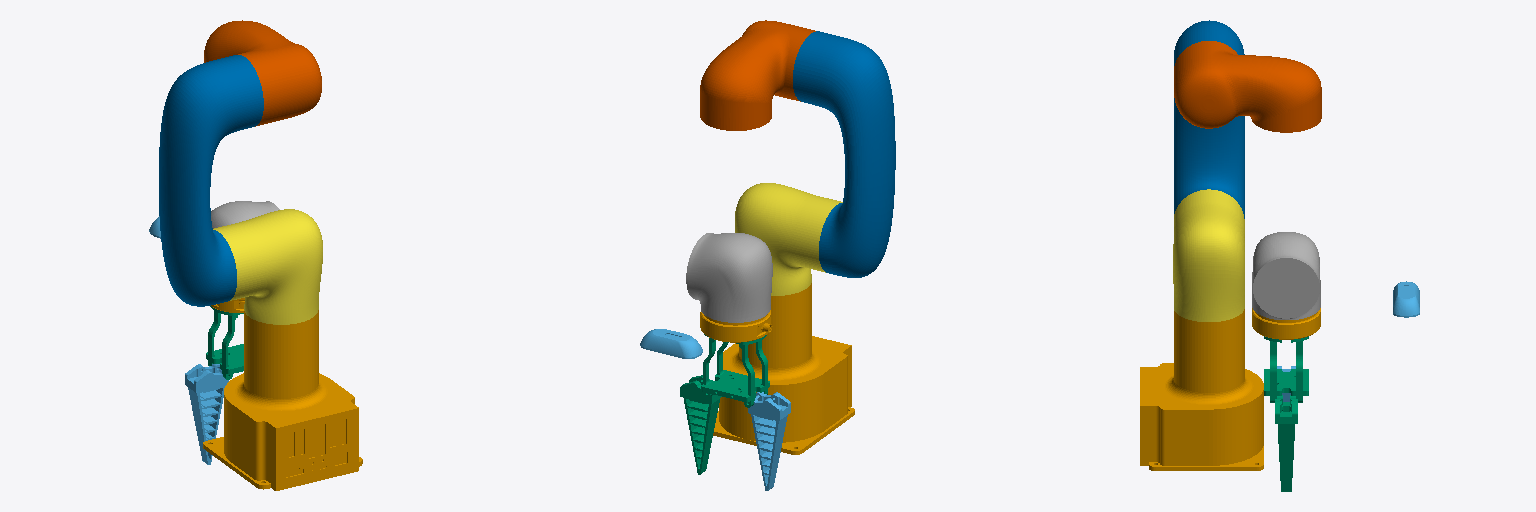
The robot description file, URDF, robot "lite_6_robotarm":
<?xml version="1.0" ?>
<robot name="lite_6_robotarm">

<material name="silver">
  <color rgba="0.700 0.700 0.700 1.000"/>
</material>

<link name="base_link">
  <inertial>
    <origin xyz="-1.4819862268024002e-06 -0.00020774933500536933 0.06315172999266203" rpy="0 0 0"/>
    <mass value="12.96819491810422"/>
    <inertia ixx="0.04245115685707855" iyy="0.03958711946350989" izz="0.026256756827603374" ixy="-1.3246006420518412e-06" iyz="-0.002653322519647819" ixz="-6.396562934922565e-07"/>
  </inertial>
  <visual>
    <origin xyz="0 0 0" rpy="0 0 0"/>
    <geometry>
      <mesh filename="meshes/base_link.stl" scale="0.001 0.001 0.001"/>
    </geometry>
    <material name="silver"/>
    <material/>
  </visual>
  <collision>
    <origin xyz="0 0 0" rpy="0 0 0"/>
    <geometry>
      <mesh filename="meshes/base_link.stl" scale="0.001 0.001 0.001"/>
    </geometry>
  </collision>
</link>

<link name="left_finger1">
  <inertial>
    <origin xyz="-0.016649755589227728 0.011001870239480141 -0.02841150300648422" rpy="0 0 0"/>
    <mass value="0.19713513253030895"/>
    <inertia ixx="0.00015875463919208608" iyy="0.00017136843527207574" izz="3.081441906987179e-05" ixy="4.222201108704249e-09" iyz="-8.24694043664951e-09" ixz="-1.4291502258722178e-06"/>
  </inertial>
  <visual>
    <origin xyz="0.0258 -0.083983 -0.07189" rpy="0 0 0"/>
    <geometry>
      <mesh filename="meshes/left_finger1.stl" scale="0.001 0.001 0.001"/>
    </geometry>
    <material name="silver"/>
    <material/>
  </visual>
  <collision>
    <origin xyz="0.0258 -0.083983 -0.07189" rpy="0 0 0"/>
    <geometry>
      <mesh filename="meshes/left_finger1.stl" scale="0.001 0.001 0.001"/>
    </geometry>
  </collision>
</link>

<link name="right_finger1">
  <inertial>
    <origin xyz="0.016649736524671027 0.010999040184855674 -0.02841150300648429" rpy="0 0 0"/>
    <mass value="0.19713513253031012"/>
    <inertia ixx="0.00015875463919208738" iyy="0.00017136843527207682" izz="3.081441906987222e-05" ixy="4.222201108487408e-09" iyz="8.24694043654109e-09" ixz="1.4291502258720551e-06"/>
  </inertial>
  <visual>
    <origin xyz="-0.0262 -0.083983 -0.07189" rpy="0 0 0"/>
    <geometry>
      <mesh filename="meshes/right_finger1.stl" scale="0.001 0.001 0.001"/>
    </geometry>
    <material name="silver"/>
    <material/>
  </visual>
  <collision>
    <origin xyz="-0.0262 -0.083983 -0.07189" rpy="0 0 0"/>
    <geometry>
      <mesh filename="meshes/right_finger1.stl" scale="0.001 0.001 0.001"/>
    </geometry>
  </collision>
</link>

<link name="link_21">
  <inertial>
    <origin xyz="-0.015123860071906185 2.5593691362589543e-06 0.05792607647334416" rpy="0 0 0"/>
    <mass value="6.037125676328531"/>
    <inertia ixx="0.007409450913407611" iyy="0.01105711269112808" izz="0.008596428432760296" ixy="-1.703390557602786e-06" iyz="-1.7606027186162915e-06" ixz="0.0012333184030674585"/>
  </inertial>
  <visual>
    <origin xyz="-0.0 -0.008 -0.173" rpy="0 0 0"/>
    <geometry>
      <mesh filename="meshes/link_21.stl" scale="0.001 0.001 0.001"/>
    </geometry>
    <material name="silver"/>
    <material/>
  </visual>
  <collision>
    <origin xyz="-0.0 -0.008 -0.173" rpy="0 0 0"/>
    <geometry>
      <mesh filename="meshes/link_21.stl" scale="0.001 0.001 0.001"/>
    </geometry>
  </collision>
</link>

<link name="link_31">
  <inertial>
    <origin xyz="-0.024766771950062688 -1.6220963948779255e-08 0.11471132098630415" rpy="0 0 0"/>
    <mass value="8.450151606335128"/>
    <inertia ixx="0.0586124956243681" iyy="0.05987853616620131" izz="0.007960376393872759" ixy="1.6612289243864153e-09" iyz="7.127192395289805e-09" ixz="-0.005489820855790861"/>
  </inertial>
  <visual>
    <origin xyz="0.078 -0.008 -0.243" rpy="0 0 0"/>
    <geometry>
      <mesh filename="meshes/link_31.stl" scale="0.001 0.001 0.001"/>
    </geometry>
    <material name="silver"/>
    <material/>
  </visual>
  <collision>
    <origin xyz="0.078 -0.008 -0.243" rpy="0 0 0"/>
    <geometry>
      <mesh filename="meshes/link_31.stl" scale="0.001 0.001 0.001"/>
    </geometry>
  </collision>
</link>

<link name="link_41">
  <inertial>
    <origin xyz="0.04266107113703172 0.07195926329740293 -0.0011071877313075795" rpy="0 0 0"/>
    <mass value="3.1266058733611786"/>
    <inertia ixx="0.004216497892854831" iyy="0.0025925805332278617" izz="0.004432592057271385" ixy="-0.0006145655473512936" iyz="0.0004038169742403702" ixz="-3.480702166943359e-05"/>
  </inertial>
  <visual>
    <origin xyz="0.045 -0.008 -0.443" rpy="0 0 0"/>
    <geometry>
      <mesh filename="meshes/link_41.stl" scale="0.001 0.001 0.001"/>
    </geometry>
    <material name="silver"/>
    <material/>
  </visual>
  <collision>
    <origin xyz="0.045 -0.008 -0.443" rpy="0 0 0"/>
    <geometry>
      <mesh filename="meshes/link_41.stl" scale="0.001 0.001 0.001"/>
    </geometry>
  </collision>
</link>

<link name="link_51">
  <inertial>
    <origin xyz="0.02518806394514212 -5.202933294479184e-07 -0.09770534814377974" rpy="0 0 0"/>
    <mass value="9.415324412121745"/>
    <inertia ixx="0.03174606440787653" iyy="0.03899306351965948" izz="0.015081744665439559" ixy="2.2377047716529153e-07" iyz="-1.847902088569775e-07" ixz="0.01035372451802729"/>
  </inertial>
  <visual>
    <origin xyz="0.0003 -0.095 -0.408" rpy="0 0 0"/>
    <geometry>
      <mesh filename="meshes/link_51.stl" scale="0.001 0.001 0.001"/>
    </geometry>
    <material name="silver"/>
    <material/>
  </visual>
  <collision>
    <origin xyz="0.0003 -0.095 -0.408" rpy="0 0 0"/>
    <geometry>
      <mesh filename="meshes/link_51.stl" scale="0.001 0.001 0.001"/>
    </geometry>
  </collision>
</link>

<link name="link_61">
  <inertial>
    <origin xyz="-0.03808287255784253 2.18282484643062e-07 -0.0016448277556807278" rpy="0 0 0"/>
    <mass value="3.198235745543407"/>
    <inertia ixx="0.002815447770259466" iyy="0.0029866862987641685" izz="0.002626395753246802" ixy="1.3494393247899701e-08" iyz="-1.5062826264067297e-09" ixz="-4.928553672503685e-05"/>
  </inertial>
  <visual>
    <origin xyz="-0.041217 -0.094983 -0.21589" rpy="0 0 0"/>
    <geometry>
      <mesh filename="meshes/link_61.stl" scale="0.001 0.001 0.001"/>
    </geometry>
    <material name="silver"/>
    <material/>
  </visual>
  <collision>
    <origin xyz="-0.041217 -0.094983 -0.21589" rpy="0 0 0"/>
    <geometry>
      <mesh filename="meshes/link_61.stl" scale="0.001 0.001 0.001"/>
    </geometry>
  </collision>
</link>

<link name="link_71">
  <inertial>
    <origin xyz="0.00012991172119495537 -6.044617565784116e-05 -0.011116005669908113" rpy="0 0 0"/>
    <mass value="0.6627466143452483"/>
    <inertia ixx="0.00028716382427402404" iyy="0.0002850704520966363" izz="0.0005151451067073685" ixy="-2.3262996892472998e-07" iyz="-4.842404329047367e-07" ixz="2.8539443565770084e-07"/>
  </inertial>
  <visual>
    <origin xyz="-0.0002 -0.094983 -0.17489" rpy="0 0 0"/>
    <geometry>
      <mesh filename="meshes/link_71.stl" scale="0.001 0.001 0.001"/>
    </geometry>
    <material name="silver"/>
    <material/>
  </visual>
  <collision>
    <origin xyz="-0.0002 -0.094983 -0.17489" rpy="0 0 0"/>
    <geometry>
      <mesh filename="meshes/link_71.stl" scale="0.001 0.001 0.001"/>
    </geometry>
  </collision>
</link>

<link name="camera1">
  <inertial>
    <origin xyz="0.0036313429488234322 0.08000058739524342 0.011477749952621907" rpy="0 0 0"/>
    <mass value="0.2214912391329027"/>
    <inertia ixx="1.8778615289550757e-05" iyy="7.69804639207377e-05" izz="8.623466765011502e-05" ixy="7.072412521618755e-10" iyz="1.901709432289289e-10" ixz="1.6252159380450047e-07"/>
  </inertial>
  <visual>
    <origin xyz="-0.0002 -0.094983 -0.17489" rpy="0 0 0"/>
    <geometry>
      <mesh filename="meshes/camera1.stl" scale="0.001 0.001 0.001"/>
    </geometry>
    <material name="silver"/>
    <material/>
  </visual>
  <collision>
    <origin xyz="-0.0002 -0.094983 -0.17489" rpy="0 0 0"/>
    <geometry>
      <mesh filename="meshes/camera1.stl" scale="0.001 0.001 0.001"/>
    </geometry>
  </collision>
</link>

<link name="gripper_mount1">
  <inertial>
    <origin xyz="-0.0004174510117322854 4.5521217123534186e-07 -0.03664819684752249" rpy="0 0 0"/>
    <mass value="0.21065401289475527"/>
    <inertia ixx="0.0002669591608645758" iyy="0.0003047580589882726" izz="0.0001309293590587169" ixy="-3.0429382381781955e-07" iyz="3.903127820947816e-18" ixz="2.826970614363487e-06"/>
  </inertial>
  <visual>
    <origin xyz="-0.0002 -0.094983 -0.15139" rpy="0 0 0"/>
    <geometry>
      <mesh filename="meshes/gripper_mount1.stl" scale="0.001 0.001 0.001"/>
    </geometry>
    <material name="silver"/>
    <material/>
  </visual>
  <collision>
    <origin xyz="-0.0002 -0.094983 -0.15139" rpy="0 0 0"/>
    <geometry>
      <mesh filename="meshes/gripper_mount1.stl" scale="0.001 0.001 0.001"/>
    </geometry>
  </collision>
</link>

<joint name="ȸ��_3" type="continuous">
  <origin xyz="-0.026 -0.011 -0.0795" rpy="0 0 0"/>
  <parent link="gripper_mount1"/>
  <child link="left_finger1"/>
  <axis xyz="-0.0 1.0 -0.0"/>
</joint>
<transmission name="ȸ��_3_tran">
  <type>transmission_interface/SimpleTransmission</type>
  <joint name="ȸ��_3">
    <hardwareInterface>PositionJointInterface</hardwareInterface>
  </joint>
  <actuator name="ȸ��_3_actr">
    <hardwareInterface>PositionJointInterface</hardwareInterface>
    <mechanicalReduction>1</mechanicalReduction>
  </actuator>
</transmission>

<joint name="ȸ��_4" type="continuous">
  <origin xyz="0.026 -0.011 -0.0795" rpy="0 0 0"/>
  <parent link="gripper_mount1"/>
  <child link="right_finger1"/>
  <axis xyz="-0.0 1.0 -0.0"/>
</joint>
<transmission name="ȸ��_4_tran">
  <type>transmission_interface/SimpleTransmission</type>
  <joint name="ȸ��_4">
    <hardwareInterface>PositionJointInterface</hardwareInterface>
  </joint>
  <actuator name="ȸ��_4_actr">
    <hardwareInterface>PositionJointInterface</hardwareInterface>
    <mechanicalReduction>1</mechanicalReduction>
  </actuator>
</transmission>

<joint name="ȸ��_5" type="continuous">
  <origin xyz="0.0 0.008 0.173" rpy="0 0 0"/>
  <parent link="base_link"/>
  <child link="link_21"/>
  <axis xyz="0.0 -0.0 1.0"/>
</joint>
<transmission name="ȸ��_5_tran">
  <type>transmission_interface/SimpleTransmission</type>
  <joint name="ȸ��_5">
    <hardwareInterface>PositionJointInterface</hardwareInterface>
  </joint>
  <actuator name="ȸ��_5_actr">
    <hardwareInterface>PositionJointInterface</hardwareInterface>
    <mechanicalReduction>1</mechanicalReduction>
  </actuator>
</transmission>

<joint name="ȸ��_6" type="continuous">
  <origin xyz="-0.078 0.0 0.07" rpy="0 0 0"/>
  <parent link="link_21"/>
  <child link="link_31"/>
  <axis xyz="-1.0 0.0 0.0"/>
</joint>
<transmission name="ȸ��_6_tran">
  <type>transmission_interface/SimpleTransmission</type>
  <joint name="ȸ��_6">
    <hardwareInterface>PositionJointInterface</hardwareInterface>
  </joint>
  <actuator name="ȸ��_6_actr">
    <hardwareInterface>PositionJointInterface</hardwareInterface>
    <mechanicalReduction>1</mechanicalReduction>
  </actuator>
</transmission>

<joint name="ȸ��_7" type="continuous">
  <origin xyz="0.033 0.0 0.2" rpy="0 0 0"/>
  <parent link="link_31"/>
  <child link="link_41"/>
  <axis xyz="1.0 -0.0 -0.0"/>
</joint>
<transmission name="ȸ��_7_tran">
  <type>transmission_interface/SimpleTransmission</type>
  <joint name="ȸ��_7">
    <hardwareInterface>PositionJointInterface</hardwareInterface>
  </joint>
  <actuator name="ȸ��_7_actr">
    <hardwareInterface>PositionJointInterface</hardwareInterface>
    <mechanicalReduction>1</mechanicalReduction>
  </actuator>
</transmission>

<joint name="ȸ��_8" type="continuous">
  <origin xyz="0.0447 0.087 -0.035" rpy="0 0 0"/>
  <parent link="link_41"/>
  <child link="link_51"/>
  <axis xyz="-0.0 -0.0 -1.0"/>
</joint>
<transmission name="ȸ��_8_tran">
  <type>transmission_interface/SimpleTransmission</type>
  <joint name="ȸ��_8">
    <hardwareInterface>PositionJointInterface</hardwareInterface>
  </joint>
  <actuator name="ȸ��_8_actr">
    <hardwareInterface>PositionJointInterface</hardwareInterface>
    <mechanicalReduction>1</mechanicalReduction>
  </actuator>
</transmission>

<joint name="ȸ��_9" type="continuous">
  <origin xyz="0.041517 -1.7e-05 -0.19211" rpy="0 0 0"/>
  <parent link="link_51"/>
  <child link="link_61"/>
  <axis xyz="-1.0 -0.0 -0.0"/>
</joint>
<transmission name="ȸ��_9_tran">
  <type>transmission_interface/SimpleTransmission</type>
  <joint name="ȸ��_9">
    <hardwareInterface>PositionJointInterface</hardwareInterface>
  </joint>
  <actuator name="ȸ��_9_actr">
    <hardwareInterface>PositionJointInterface</hardwareInterface>
    <mechanicalReduction>1</mechanicalReduction>
  </actuator>
</transmission>

<joint name="ȸ��_10" type="continuous">
  <origin xyz="-0.041017 0.0 -0.041" rpy="0 0 0"/>
  <parent link="link_61"/>
  <child link="link_71"/>
  <axis xyz="0.0 -0.0 -1.0"/>
</joint>
<transmission name="ȸ��_10_tran">
  <type>transmission_interface/SimpleTransmission</type>
  <joint name="ȸ��_10">
    <hardwareInterface>PositionJointInterface</hardwareInterface>
  </joint>
  <actuator name="ȸ��_10_actr">
    <hardwareInterface>PositionJointInterface</hardwareInterface>
    <mechanicalReduction>1</mechanicalReduction>
  </actuator>
</transmission>

<joint name="��ü_11" type="fixed">
  <origin xyz="-0.041017 0.055 -0.041" rpy="0 0 0"/>
  <parent link="link_61"/>
  <child link="camera1"/>
</joint>

<joint name="ȸ��_12" type="continuous">
  <origin xyz="0.0 0.0 -0.0235" rpy="0 0 0"/>
  <parent link="link_71"/>
  <child link="gripper_mount1"/>
  <axis xyz="0.0 -0.0 -1.0"/>
</joint>
<transmission name="ȸ��_12_tran">
  <type>transmission_interface/SimpleTransmission</type>
  <joint name="ȸ��_12">
    <hardwareInterface>PositionJointInterface</hardwareInterface>
  </joint>
  <actuator name="ȸ��_12_actr">
    <hardwareInterface>PositionJointInterface</hardwareInterface>
    <mechanicalReduction>1</mechanicalReduction>
  </actuator>
</transmission>

</robot>

--- Facts derived from the render (not from the file) ---
Views: 3 orthographic renders of the robot side by side, from view 1: azimuth 30°, elevation 25°; view 2: azimuth 150°, elevation 25°; view 3: azimuth 270°, elevation 25°.
Model lite_6_robotarm with 11 links and 10 joints (9 continuous, 1 fixed), rooted at base_link, posed all joints at 0.
Visible links, largest first — view 1: base_link, link_31, link_21, link_41, left_finger1, gripper_mount1, link_61; view 2: link_31, base_link, link_41, link_21, link_61, gripper_mount1, left_finger1, right_finger1, link_71, camera1; view 3: base_link, link_41, link_21, link_31, link_61, gripper_mount1, right_finger1, link_71, camera1.
Link boxes in pixels (box(x1,y1,x2,y2)): base_link: box(203, 310, 362, 490); link_31: box(159, 55, 263, 306); link_21: box(213, 209, 322, 324); link_41: box(204, 20, 321, 126); left_finger1: box(185, 364, 228, 464); gripper_mount1: box(206, 306, 243, 379); link_61: box(211, 201, 279, 228); link_31: box(793, 31, 895, 277); base_link: box(713, 283, 854, 454); link_41: box(700, 20, 815, 130); link_21: box(735, 183, 842, 295); link_61: box(686, 233, 772, 322); gripper_mount1: box(701, 334, 769, 407); left_finger1: box(748, 392, 790, 490); right_finger1: box(680, 375, 721, 474); link_71: box(700, 310, 772, 342); camera1: box(640, 329, 702, 358); base_link: box(1140, 309, 1263, 470); link_41: box(1174, 41, 1321, 132); link_21: box(1173, 189, 1244, 321); link_31: box(1174, 20, 1244, 218); link_61: box(1252, 232, 1320, 319); gripper_mount1: box(1264, 336, 1308, 402); right_finger1: box(1275, 395, 1297, 491); link_71: box(1252, 308, 1320, 339); camera1: box(1393, 281, 1419, 317).
Size in the robot's own frame: 0.209 by 0.3155 by 0.5183 metres.
10 mesh visuals loaded from 11 distinct referenced files (10 binary STL); not drawn: 1 (reference not matched to a file when rendering).